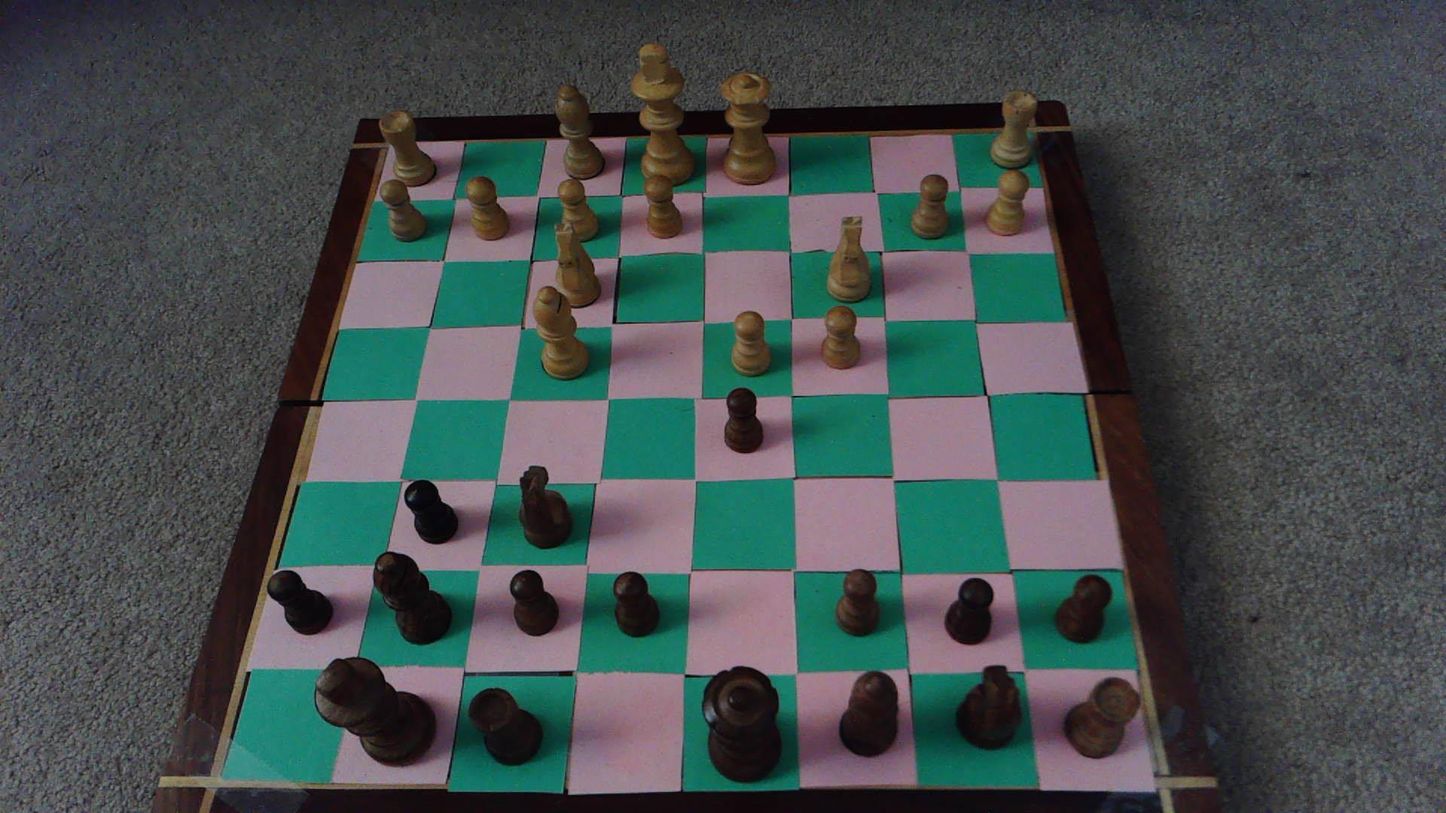dark_piece: (313, 657, 435, 764), (702, 666, 782, 782), (375, 553, 451, 644), (1064, 678, 1139, 758), (468, 688, 542, 765), (956, 665, 1021, 749), (839, 671, 897, 757), (267, 569, 333, 635), (520, 465, 572, 548), (1056, 574, 1112, 643), (403, 480, 457, 542), (944, 578, 993, 644), (612, 572, 660, 637), (510, 570, 558, 635), (836, 569, 880, 636), (725, 387, 763, 452)
white_piece: (630, 44, 694, 187), (720, 72, 774, 184), (532, 286, 588, 379), (554, 85, 604, 180), (379, 110, 435, 185), (552, 223, 601, 308), (990, 91, 1038, 170), (827, 217, 871, 302), (379, 179, 427, 242), (466, 176, 509, 240), (987, 170, 1029, 234), (557, 179, 599, 242), (731, 311, 770, 376), (644, 175, 683, 240), (911, 174, 948, 239), (822, 305, 859, 368)
